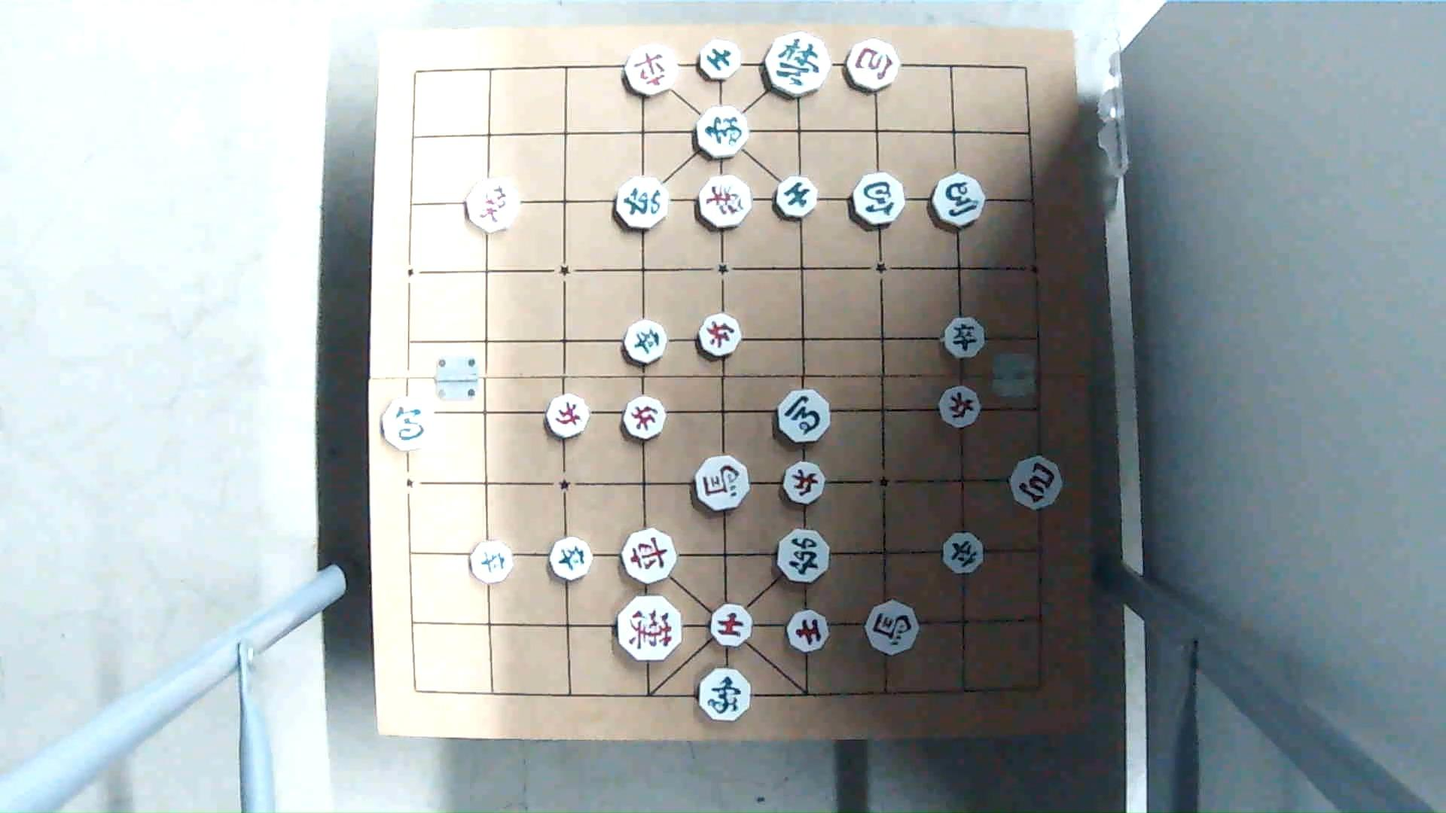cha_green: (776, 530, 828, 584), (614, 178, 672, 225)
cha_red: (622, 528, 676, 580), (625, 45, 676, 95)
jol_green: (940, 534, 990, 575), (469, 541, 512, 584), (622, 321, 667, 361), (550, 541, 596, 580), (944, 318, 987, 358)
jol_red: (696, 312, 743, 358), (619, 397, 669, 438), (547, 395, 592, 438), (781, 463, 826, 501), (939, 388, 980, 426)
ma_green: (773, 391, 833, 442), (929, 175, 989, 224)
ma_red: (862, 597, 921, 653), (695, 459, 749, 510)
po_green: (849, 175, 908, 224), (382, 400, 437, 452)
po_red: (1007, 458, 1066, 509), (848, 40, 898, 88)
sa_green: (773, 178, 822, 217), (698, 41, 743, 78)
sa_red: (709, 605, 756, 645), (790, 610, 829, 653)
sang_green: (698, 669, 754, 718), (697, 106, 753, 154)
sang_red: (694, 176, 753, 226), (465, 182, 523, 232)
wang_green: (762, 34, 834, 93)
wang_red: (615, 597, 685, 662)
